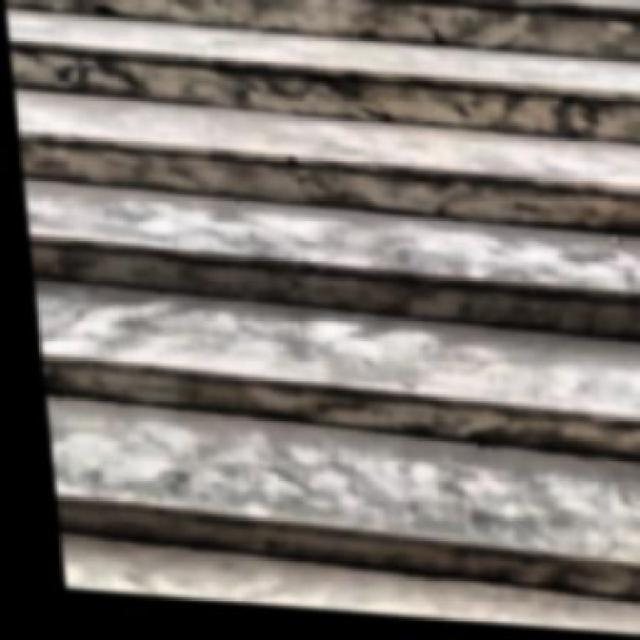stair: (2, 0, 640, 607)
